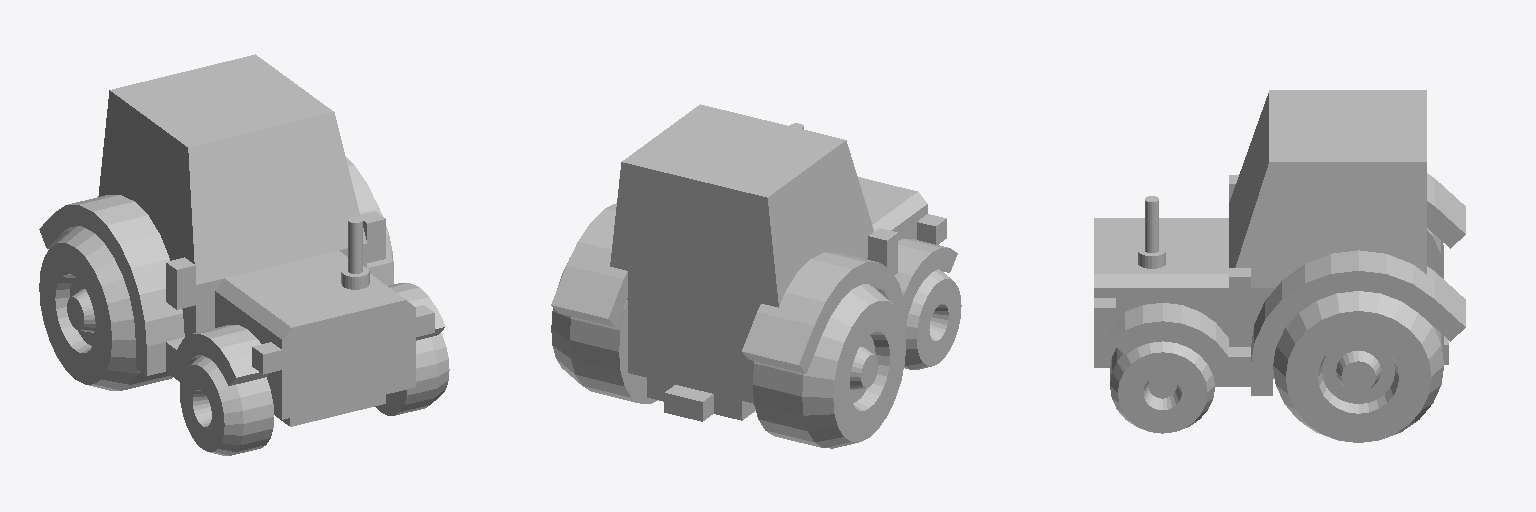
File: tractor.obj
The picture shows the model from 3 angles: view 1: azimuth 30°, elevation 25°; view 2: azimuth 150°, elevation 25°; view 3: azimuth 270°, elevation 25°; orthographic projection.
Parts seen in each view (by area): view 1: body, skirts, wheel_backRight, wheel_frontRight, wheel_frontLeft; view 2: body, skirts, wheel_backRight, wheel_backLeft, wheel_frontRight; view 3: body, wheel_backLeft, skirts, wheel_frontLeft, wheel_backRight.
Part boxes in pixels (left/top/right/bottom): body: left=98, top=54, right=434, bottom=426; skirts: left=39, top=157, right=445, bottom=385; wheel_backRight: left=39, top=226, right=172, bottom=390; wheel_frontRight: left=180, top=355, right=273, bottom=455; wheel_frontLeft: left=375, top=333, right=449, bottom=415; body: left=610, top=104, right=946, bottom=421; skirts: left=551, top=203, right=957, bottom=373; wheel_backRight: left=753, top=284, right=905, bottom=448; wheel_backLeft: left=551, top=258, right=657, bottom=403; wheel_frontRight: left=904, top=269, right=961, bottom=369; body: left=1094, top=90, right=1448, bottom=378; wheel_backLeft: left=1273, top=291, right=1443, bottom=442; skirts: left=1110, top=173, right=1465, bottom=395; wheel_frontLeft: left=1110, top=341, right=1214, bottom=433; wheel_backRight: left=1427, top=228, right=1443, bottom=278.
Bounding box in the file's own units: 1.25 × 1.1 × 1.42.